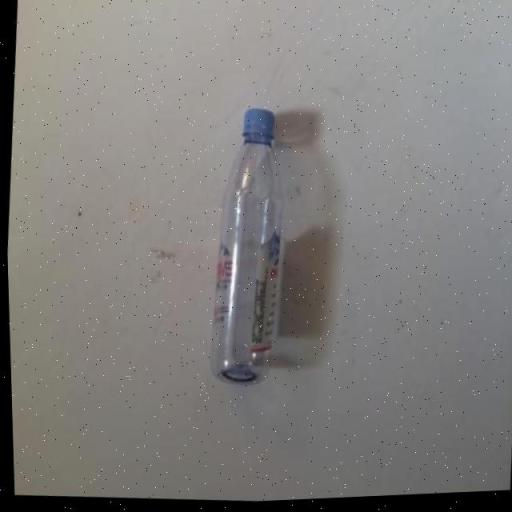plastic: (208, 110, 281, 384)
